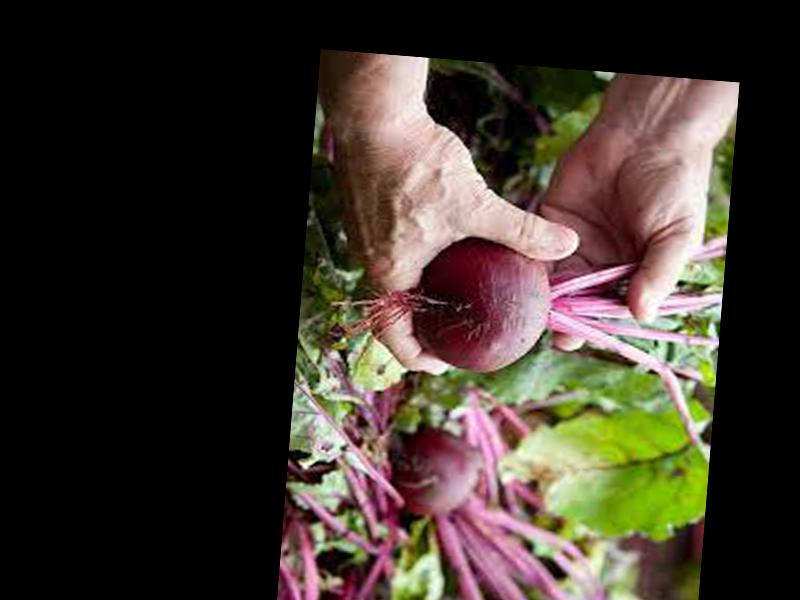Beet: (402, 230, 723, 463)
